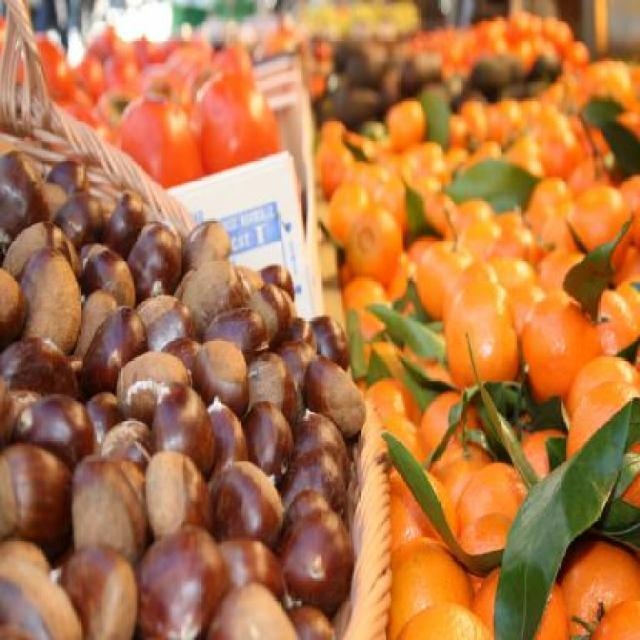Orange: (25, 11, 637, 637), (456, 470, 530, 559)
